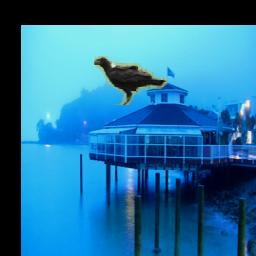Crow: (93, 57, 167, 106)
